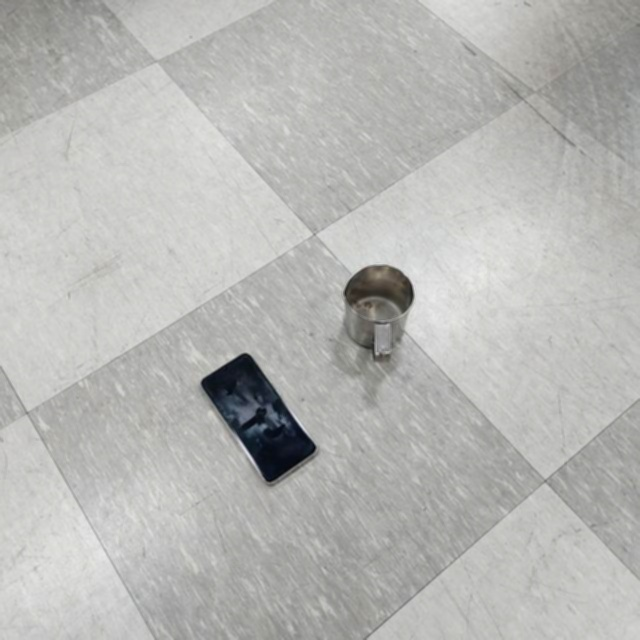cup: (341, 260, 417, 360)
phone: (200, 352, 320, 492)
